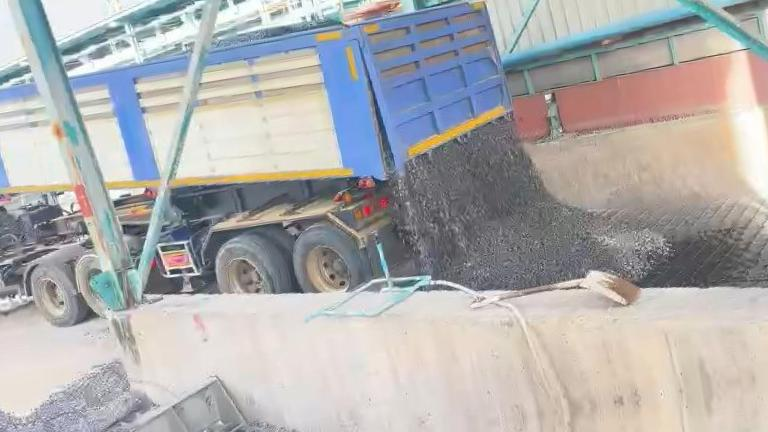gravel: (396, 118, 670, 288), (26, 361, 140, 432), (212, 20, 346, 48)
